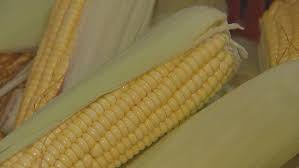tomate: (7, 10, 238, 166)
